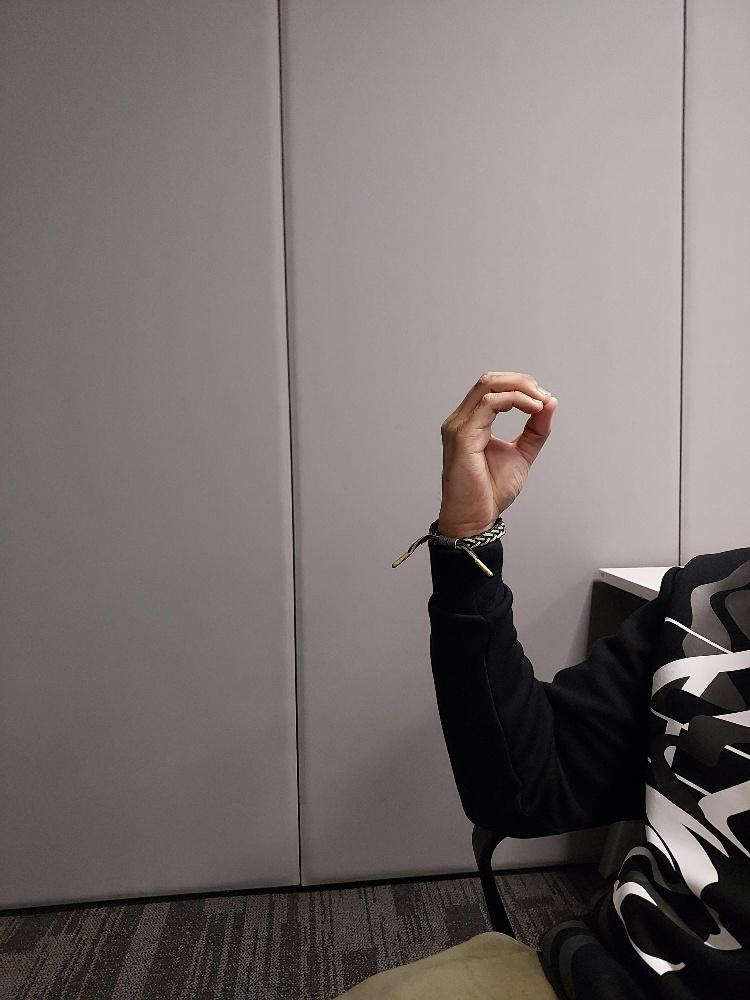o: (436, 368, 555, 528)
